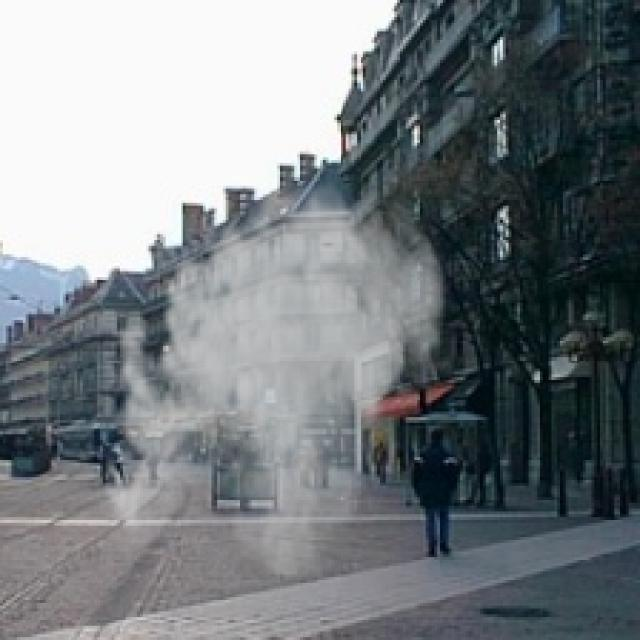Smoke: (92, 168, 454, 580)
